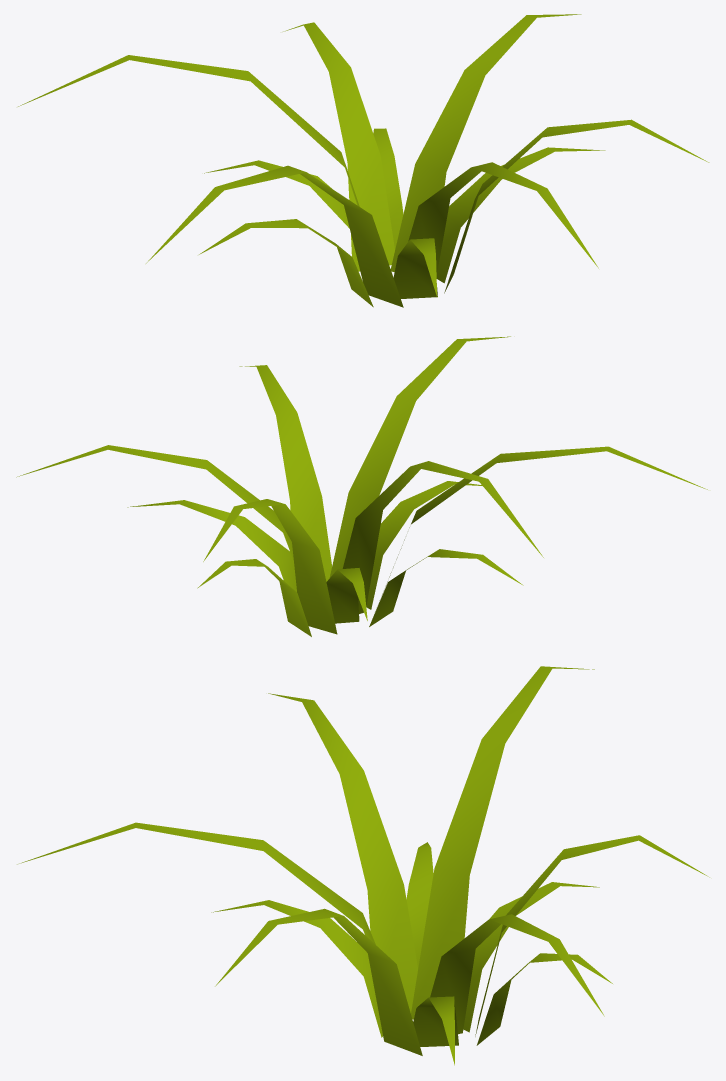
Rendered from grasspatch.glb.
3 views of the same model, one above another, from view 1: azimuth 30°, elevation 25°; view 2: azimuth 150°, elevation 25°; view 3: azimuth 270°, elevation 25° (orthographic). The views are drawn at different scales.
Visible parts, largest first — view 1: ElwFor_Grass02; view 2: ElwFor_Grass02; view 3: ElwFor_Grass02.
Part boxes in pixels (<box>): ElwFor_Grass02: <box>18,14,709,307</box>; ElwFor_Grass02: <box>16,336,707,636</box>; ElwFor_Grass02: <box>17,666,709,1065</box>.
Bounding box in the file's own units: 42.36 × 16.07 × 40.38.
